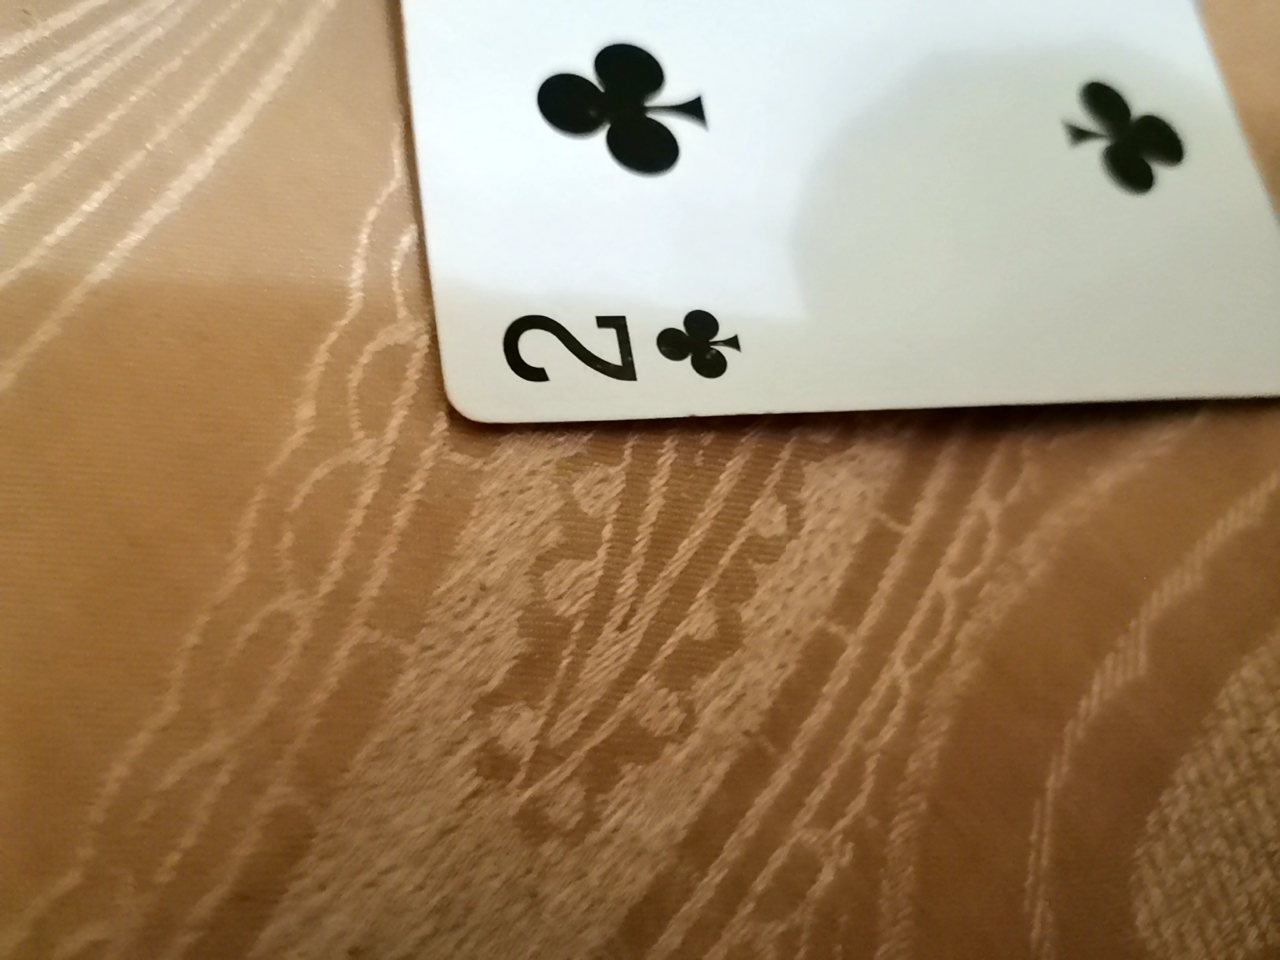mh 2: (372, 0, 1266, 434)
